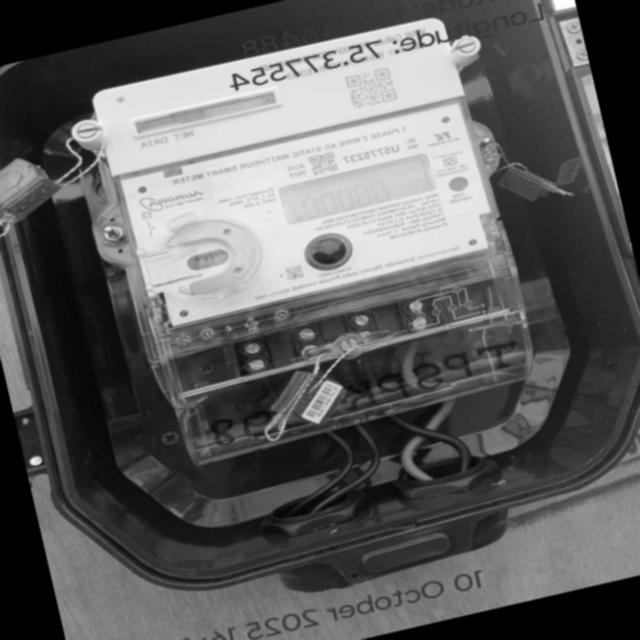meter: (77, 2, 524, 380)
